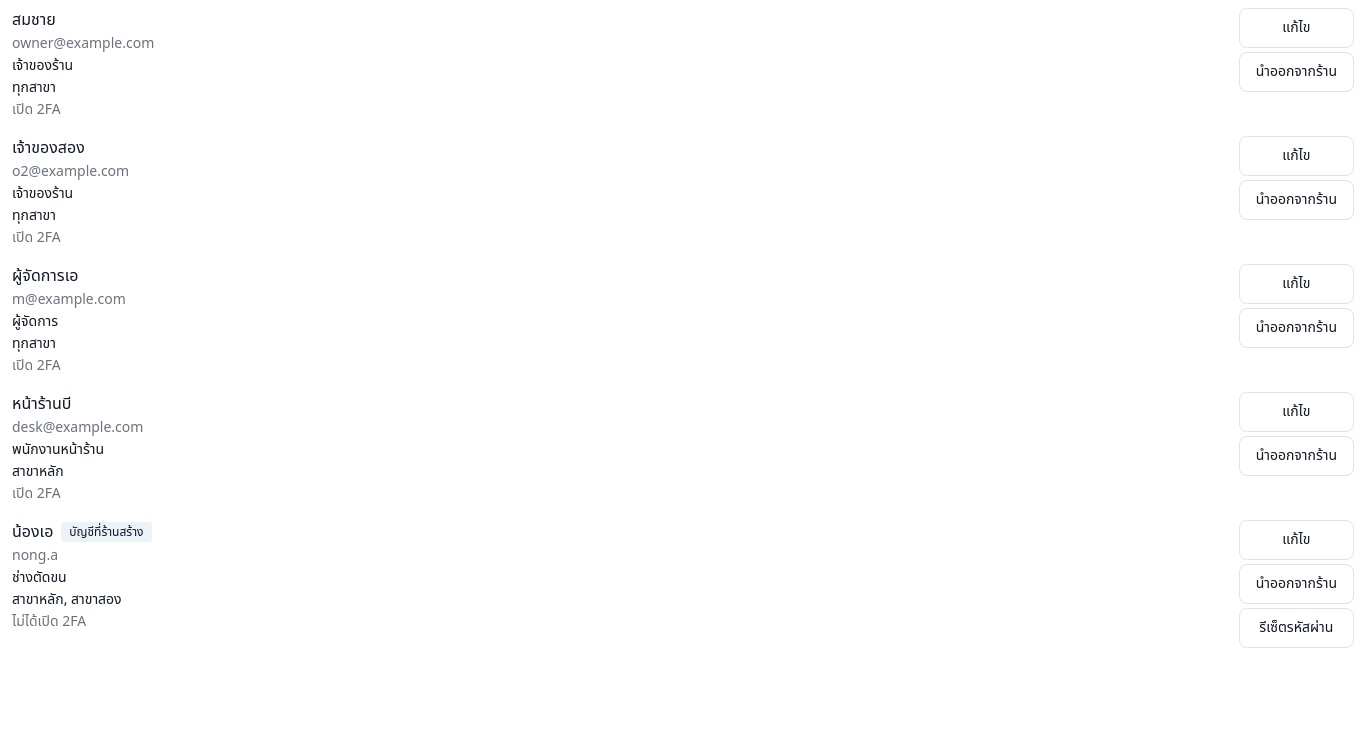
edit (#contract-staff-update) › ORG_SUSPENDED → its message, dialog stays open
Expected: the text "น้องเอ" is shown, [12, 520, 53, 544]
Click the button "แก้ไข" in the row of "สมชาย" at (1296, 28), box [1239, 8, 1354, 48]
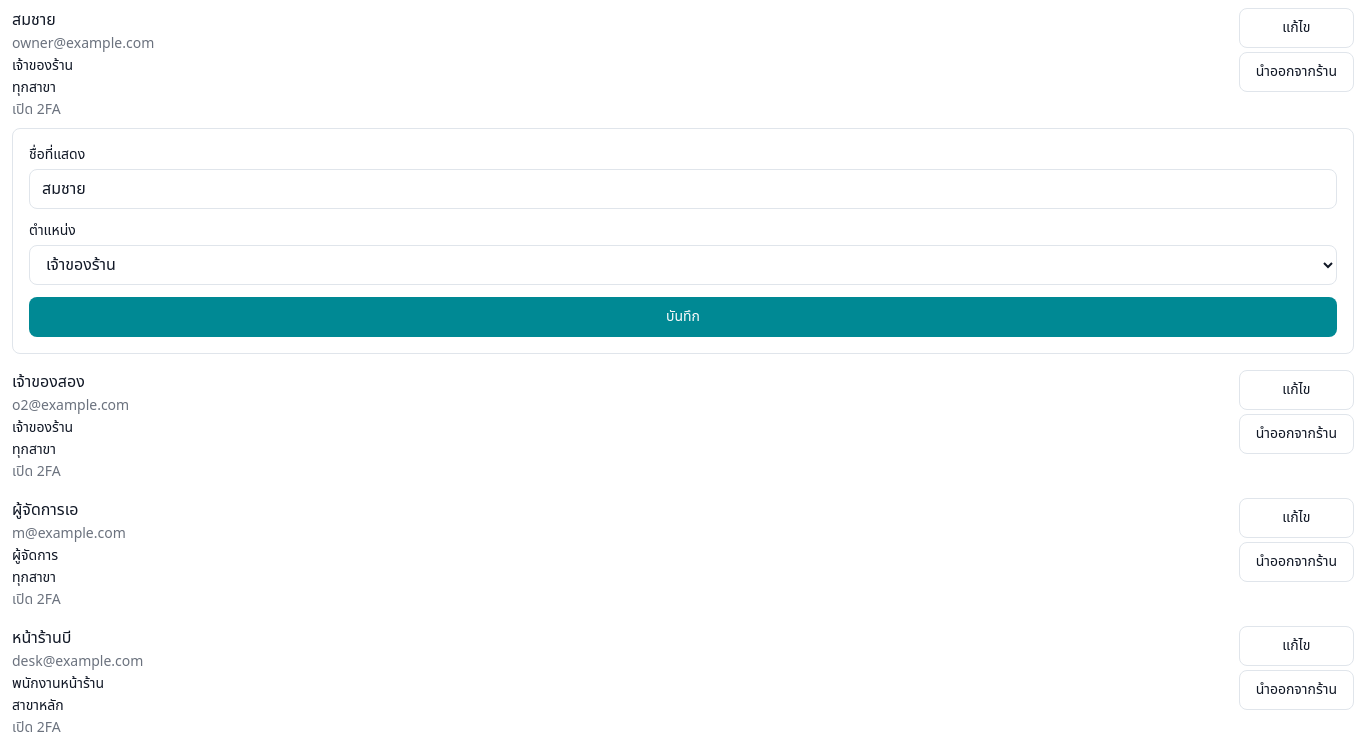
Select "ผู้จัดการ" in the dropdown labelled "ตำแหน่ง" at (683, 265), box [29, 245, 1337, 285]
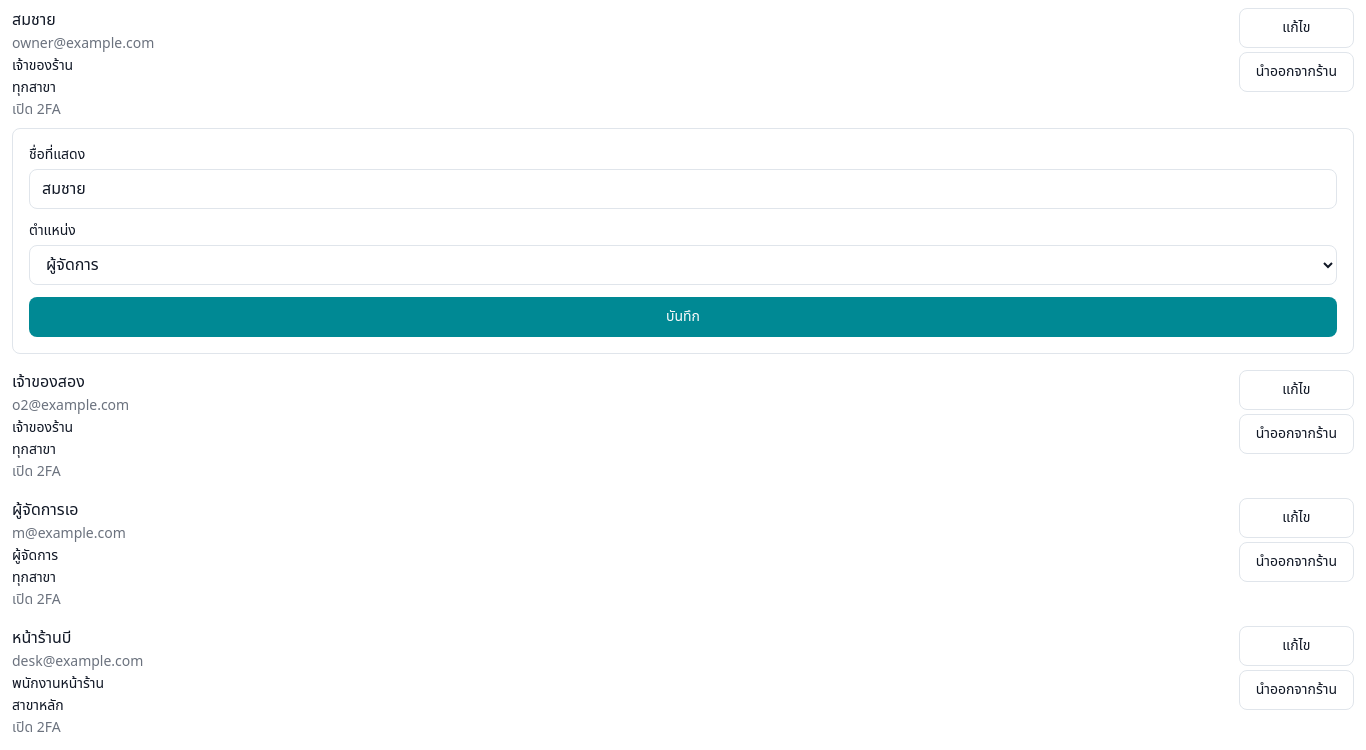
Click the button "บันทึก" at (683, 317), box [29, 297, 1337, 337]
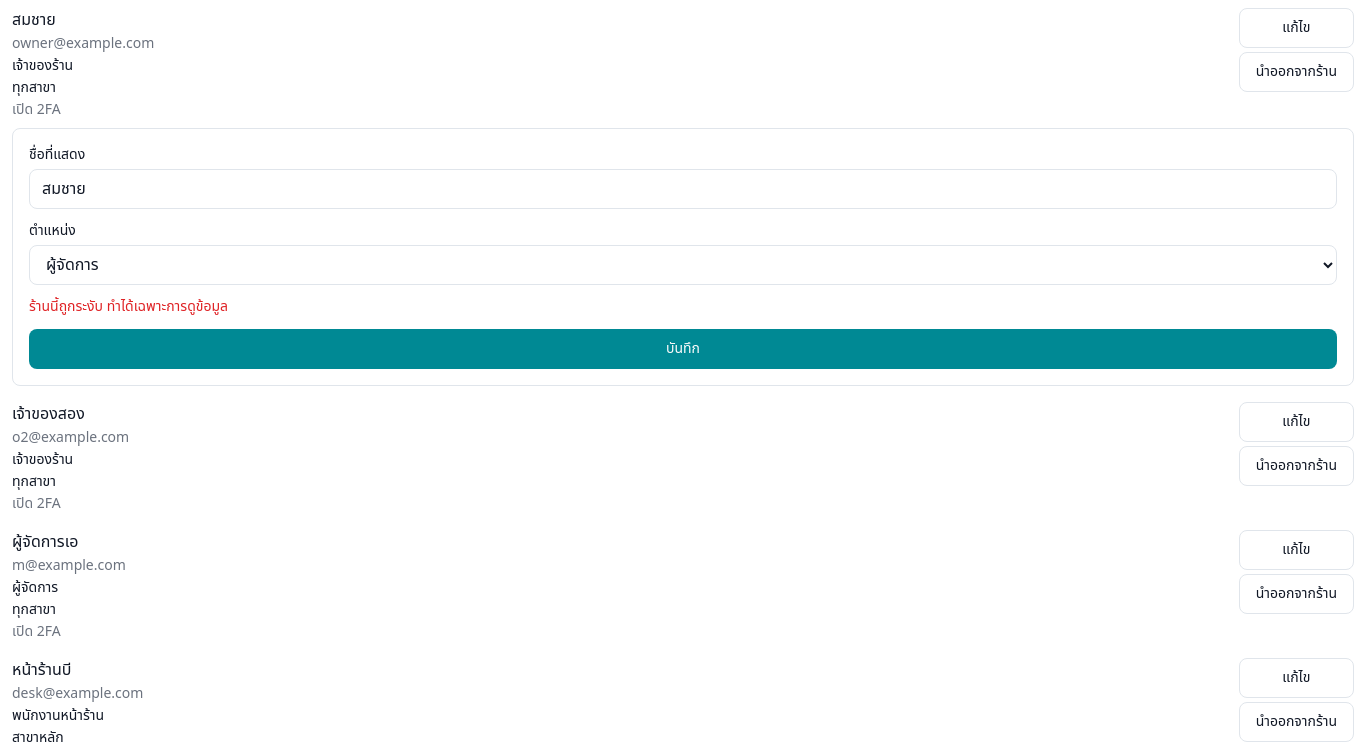
Expected: the text "ร้านนี้ถูกระงับ ทำได้เฉพาะการดูข้อมูล" is shown, [29, 296, 228, 317]
